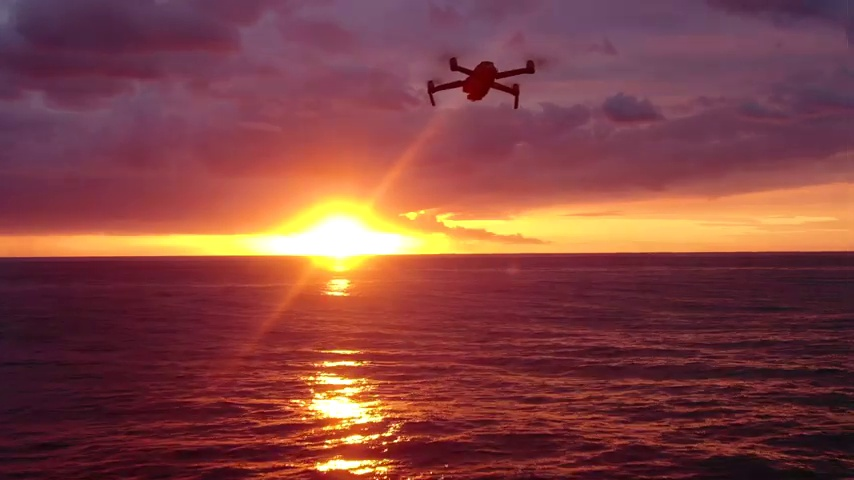drone: (425, 55, 536, 113)
